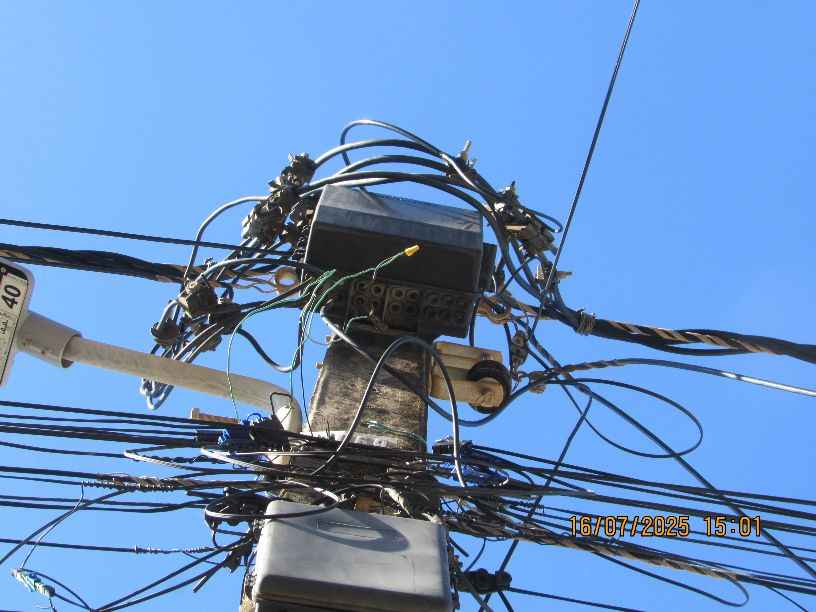caixa_derivacao: (245, 491, 460, 608)
drop: (425, 430, 523, 493), (183, 405, 286, 464), (447, 549, 529, 586)
fibra_optica: (453, 494, 650, 546), (125, 467, 245, 519)
